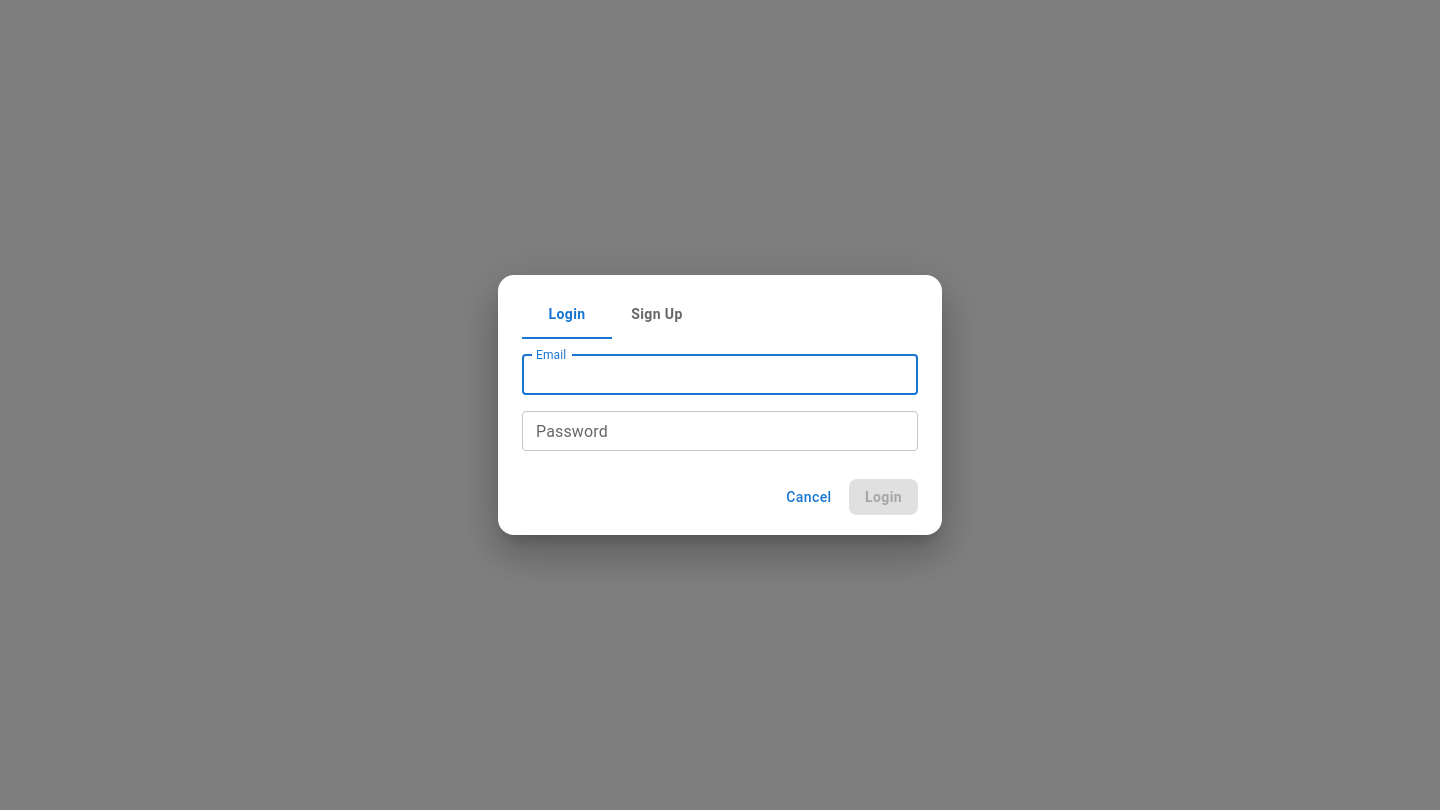
Test: LoginDialog › displays auth error with Firebase prefix stripped
Type "a@b.c" into the field labelled "Email" at (720, 375), box [522,355,918,395]
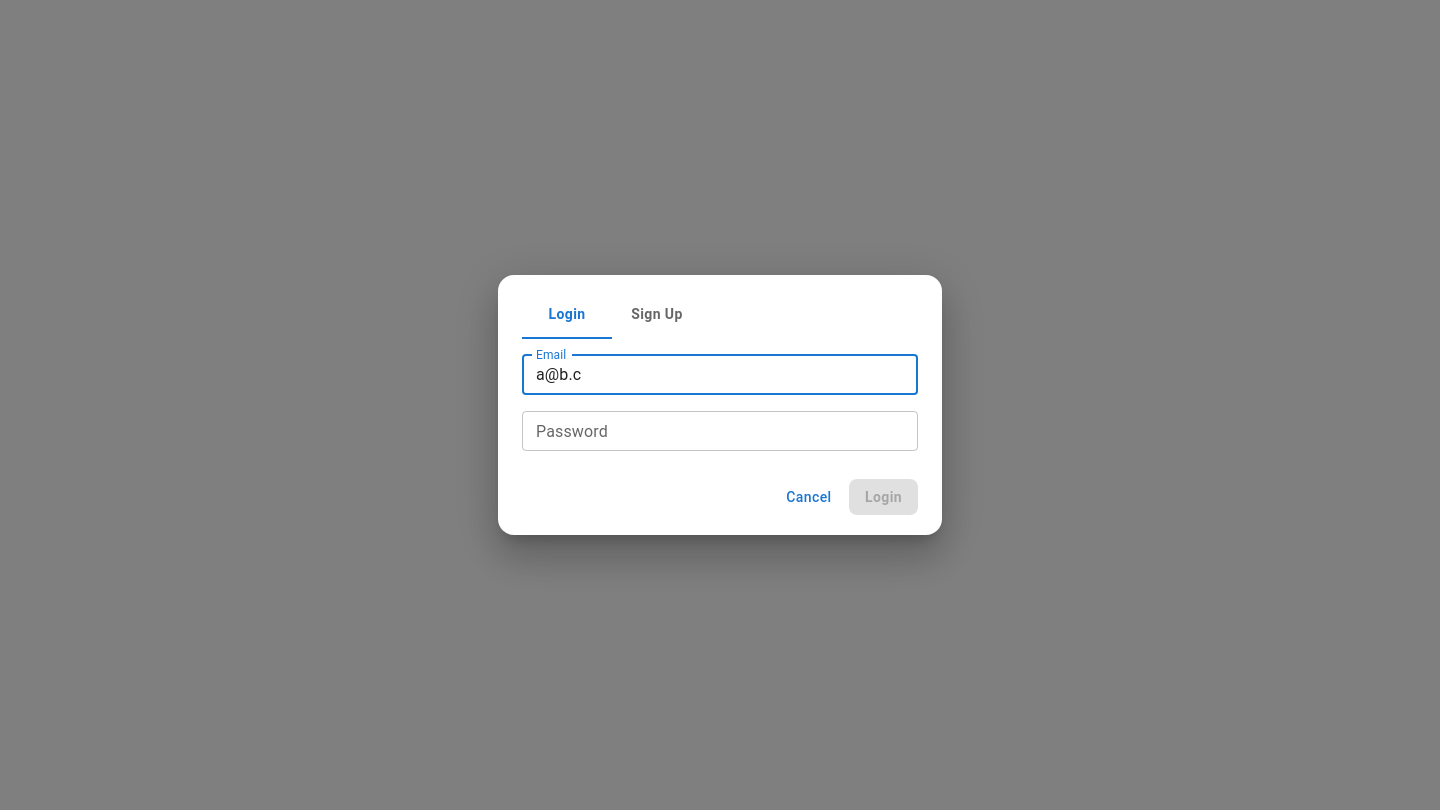
Type "wrong" into the password field labelled "Password" at (720, 431), box [522,411,918,451]
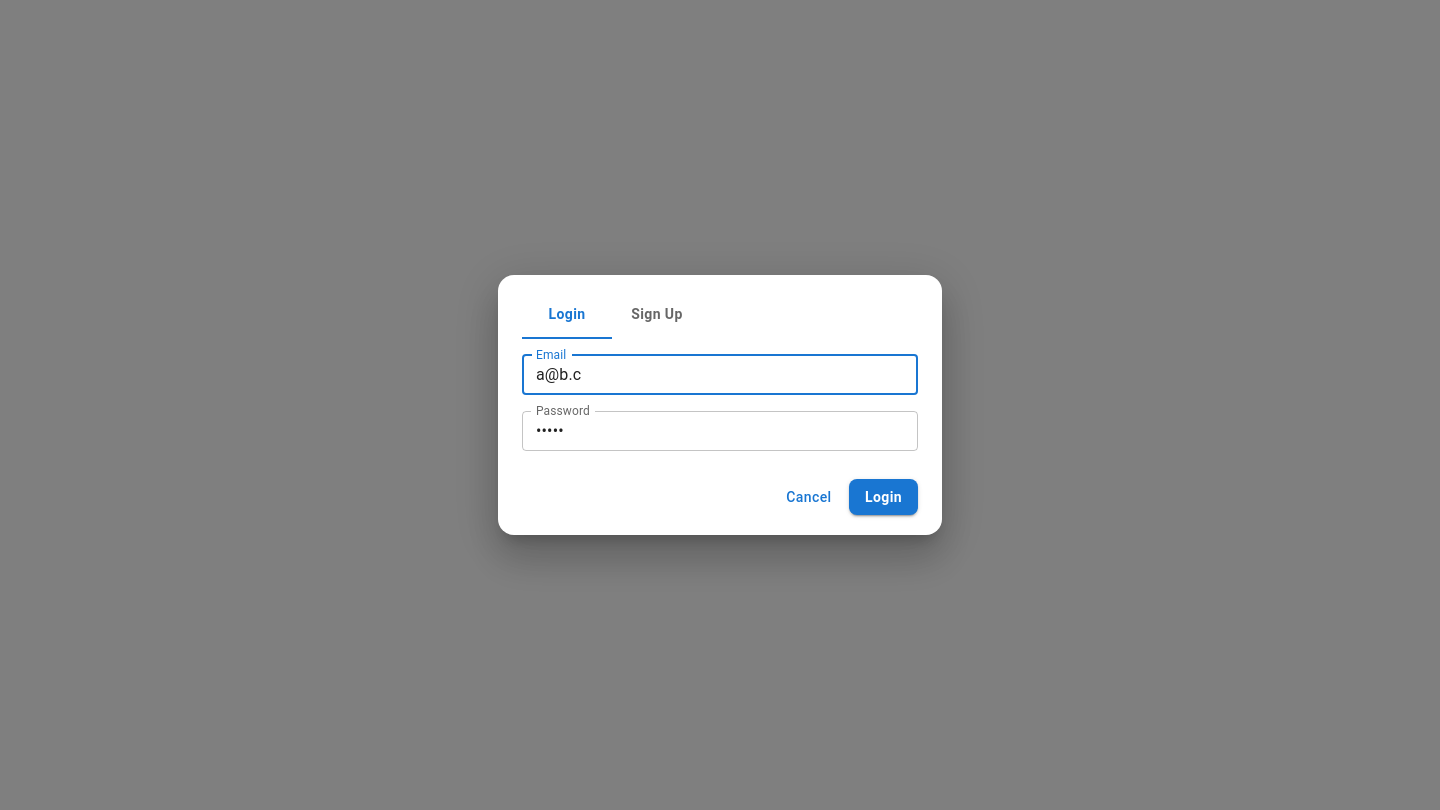
Click the button "Login" at (883, 497), box [849,479,918,515]
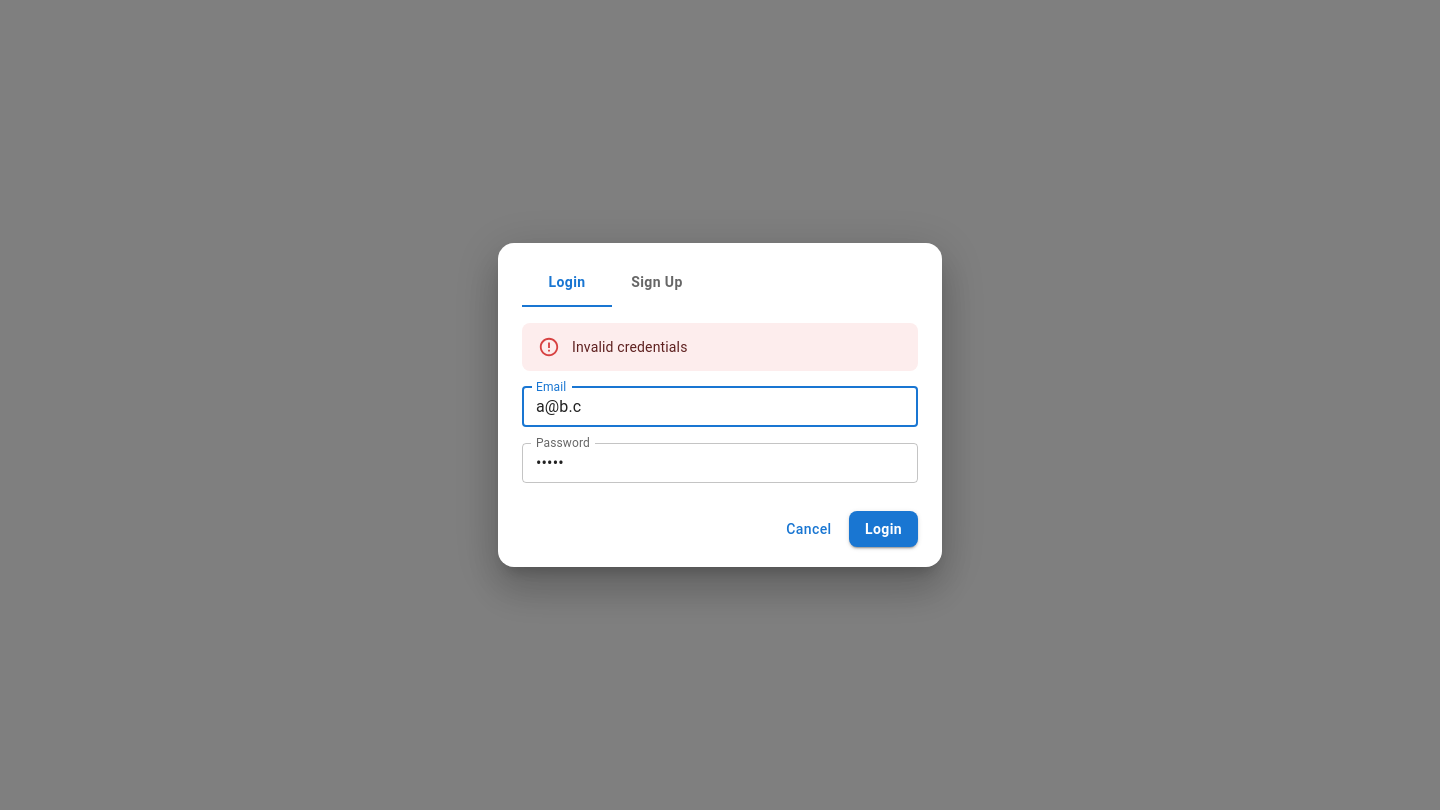
Expected: the text "Invalid credentials" is shown, [572,339,688,355]
